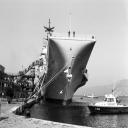Portanaves: (36, 7, 98, 110)
